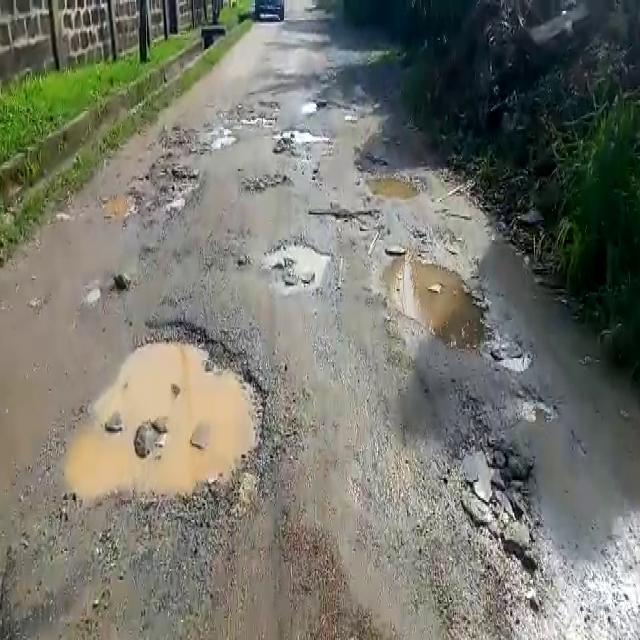pothole: (69, 309, 276, 514), (380, 252, 493, 358), (263, 235, 330, 290), (505, 385, 558, 428), (361, 168, 420, 203), (313, 207, 382, 231), (100, 187, 135, 226), (240, 169, 293, 193), (273, 130, 333, 148), (231, 109, 282, 127)
